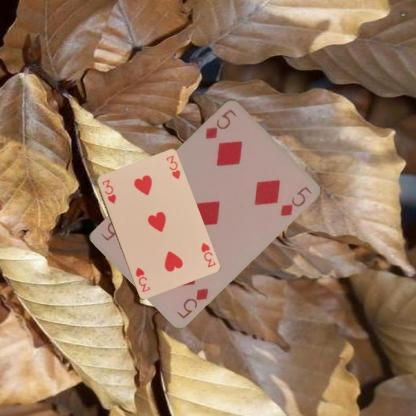3h: (198, 240, 217, 269), (100, 177, 118, 205)
5d: (202, 106, 239, 140), (174, 285, 210, 319)
